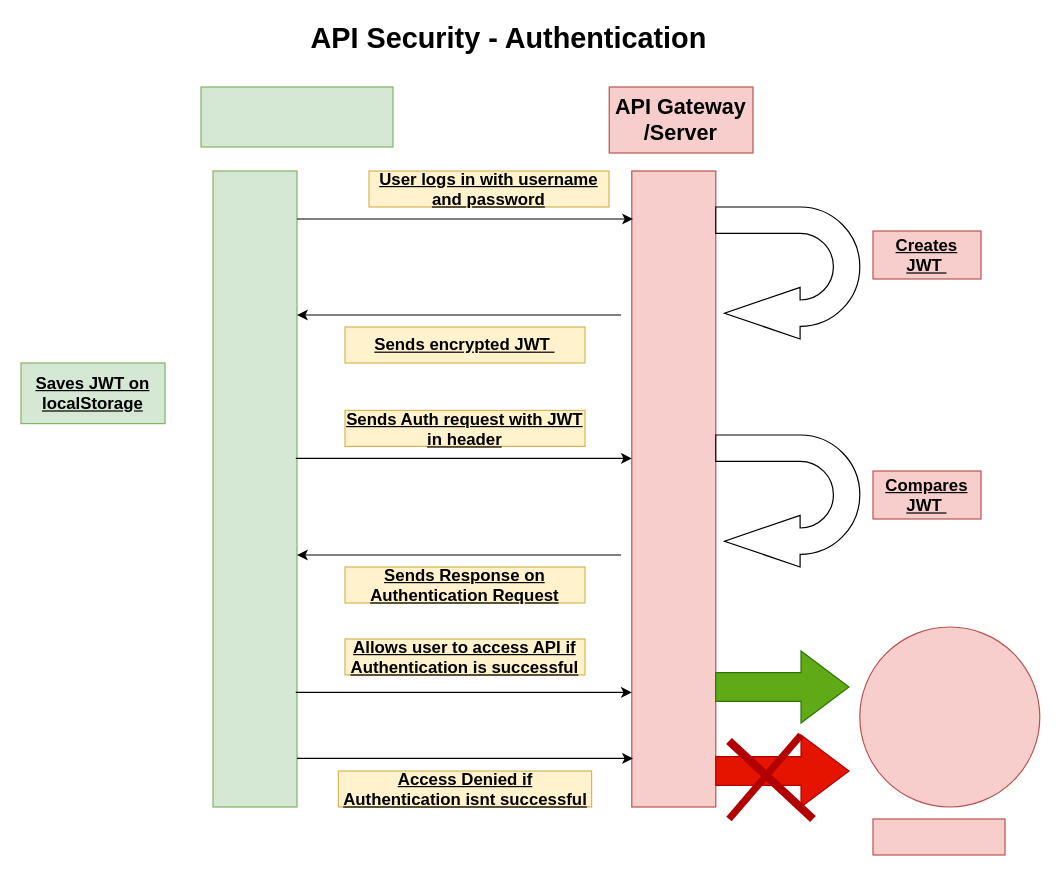
Some shapes in this 1061 by 876 pixel diagram are drawn without their labels. Here are the shapes that lost their labels. From the top down, the centre of each, then its label:
At (x=296, y=116): "Vehicle API Plaform/ Client".
At (x=949, y=716): "/vehicleSpecs & E3 Customer Portal => Vehicle Specs".
At (x=938, y=836): "Service/API".
